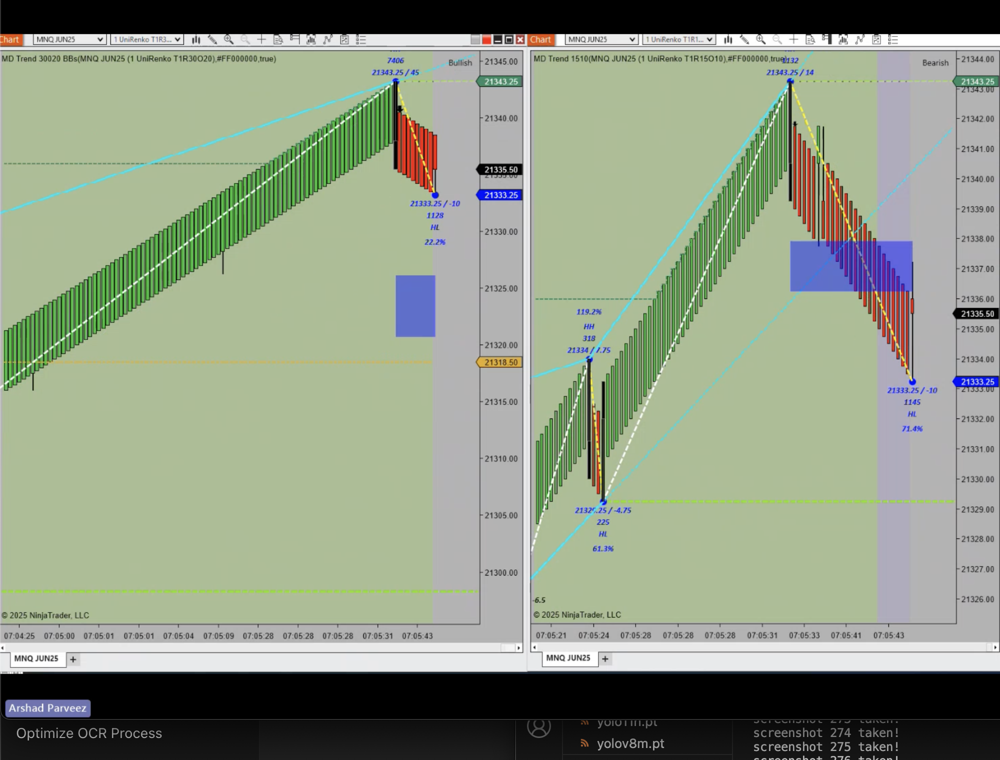HH: (577, 318, 603, 333)
HL: (903, 405, 930, 425), (591, 526, 617, 543), (429, 220, 448, 238)
